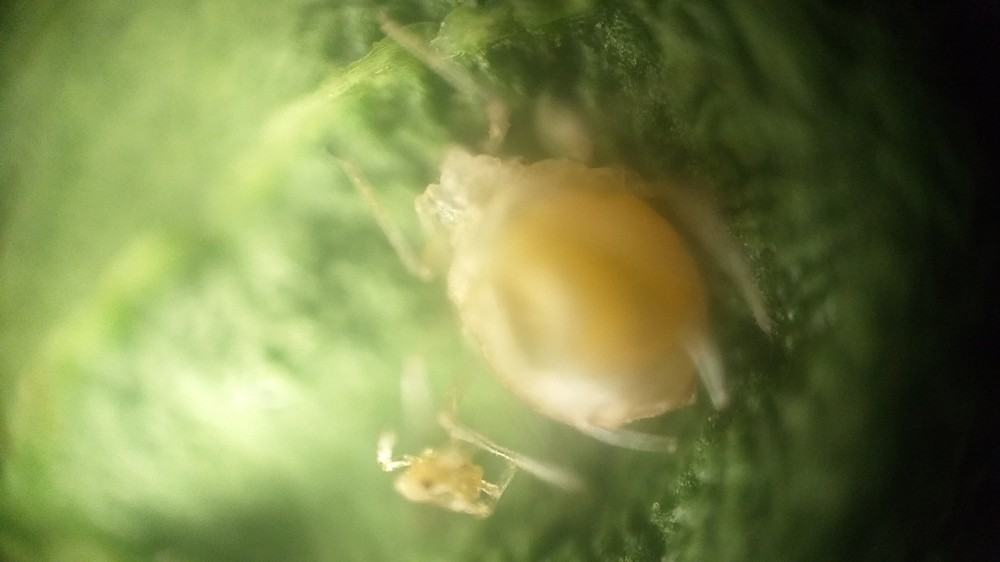Pulgon: (305, 37, 799, 479)
